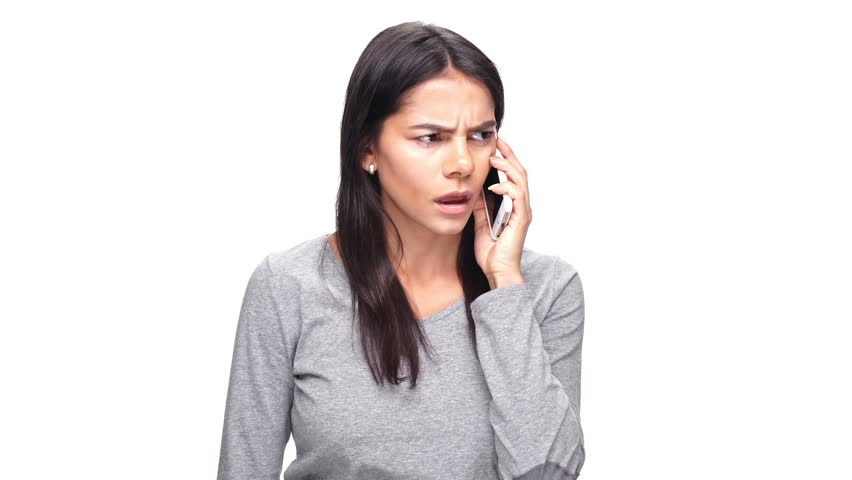phone: (474, 143, 534, 247)
talk: (388, 110, 550, 286)
